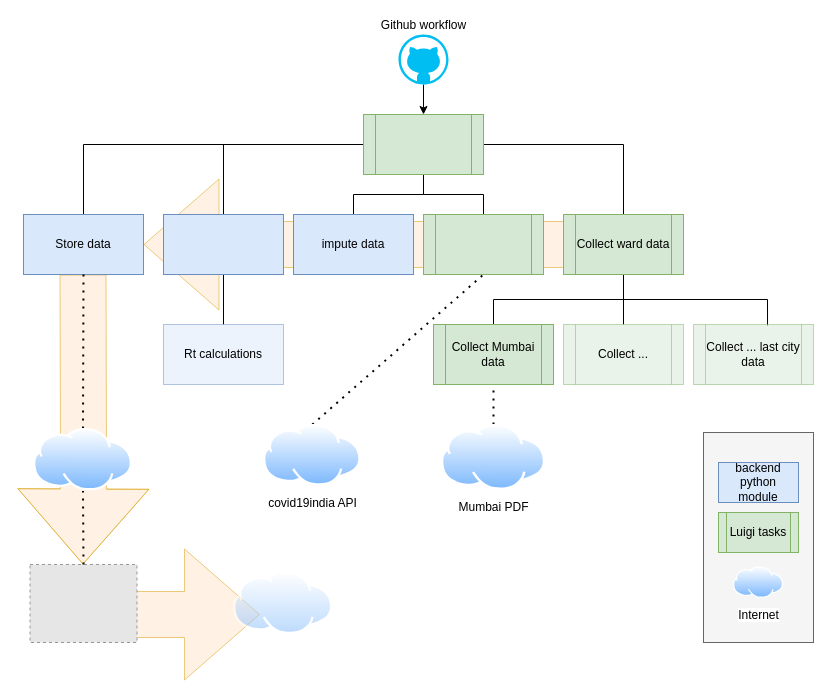
Some shapes in this 831 by 697 pixel diagram are drawn without their labels. Grey dashed boxes stand in for pictures. Here are the shapes that lost their labels. From the top down, the box of each, then its label:
(362, 114, 484, 174): Update Dashboard data
(162, 214, 284, 274): calculate metrics
(422, 214, 544, 274): Collect covid19india data
(33, 428, 132, 490): Google Sheets
(702, 432, 814, 642): Components
(233, 571, 332, 634): Github Pages(?)
